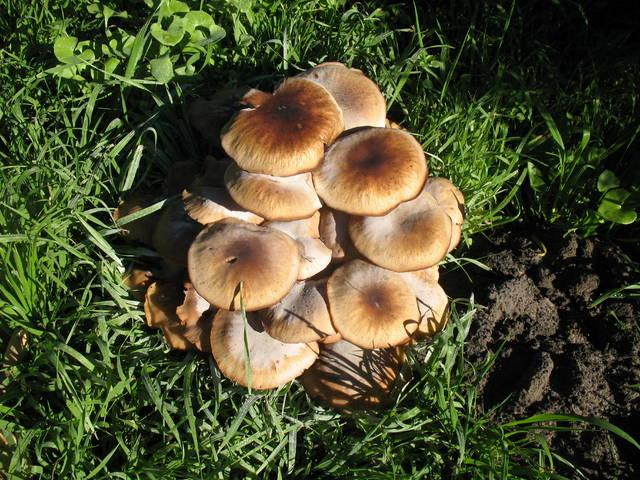edible_mushroom: (113, 60, 467, 411)
